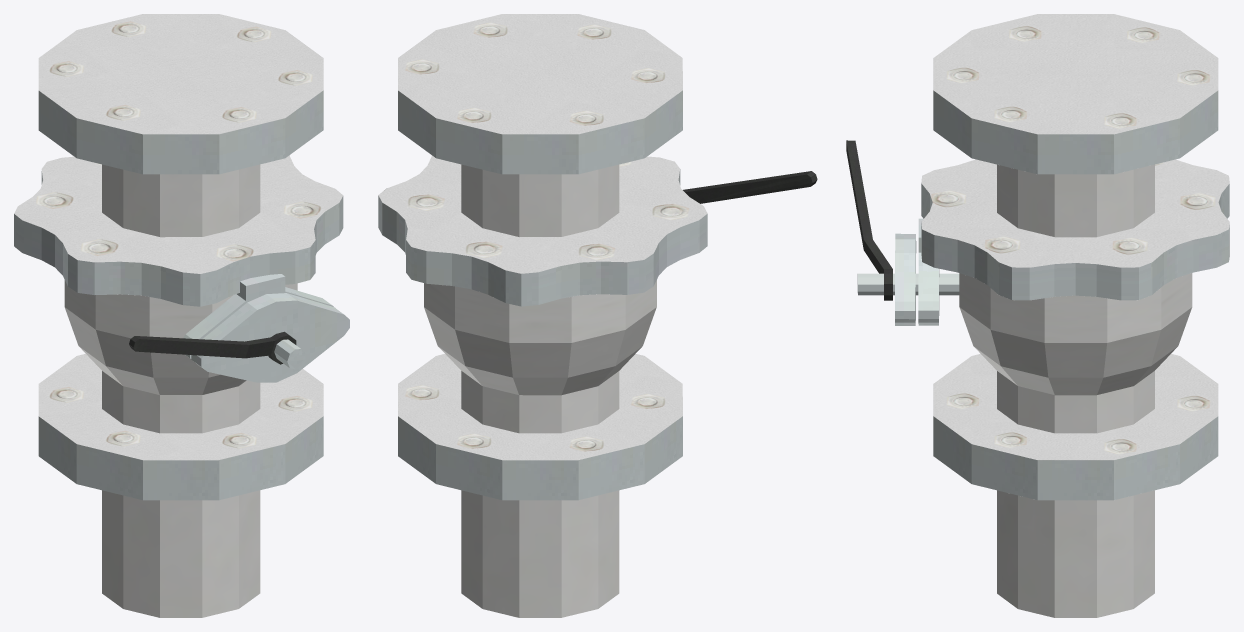
File: fyf005-geode.glb
3 renders of one model, left to right at view 1: azimuth 30°, elevation 25°; view 2: azimuth 150°, elevation 25°; view 3: azimuth 270°, elevation 25°, orthographic.
Visible parts, largest first — view 1: Node; view 2: Node; view 3: Node.
Boxes of the visible parts, <box> form: Node: <box>14,14,349,617</box>; Node: <box>378,14,817,617</box>; Node: <box>846,14,1229,617</box>.
Size of the model in its own units: 0.2803 by 0.466 by 0.3174.
3 materials, 3 textured.
